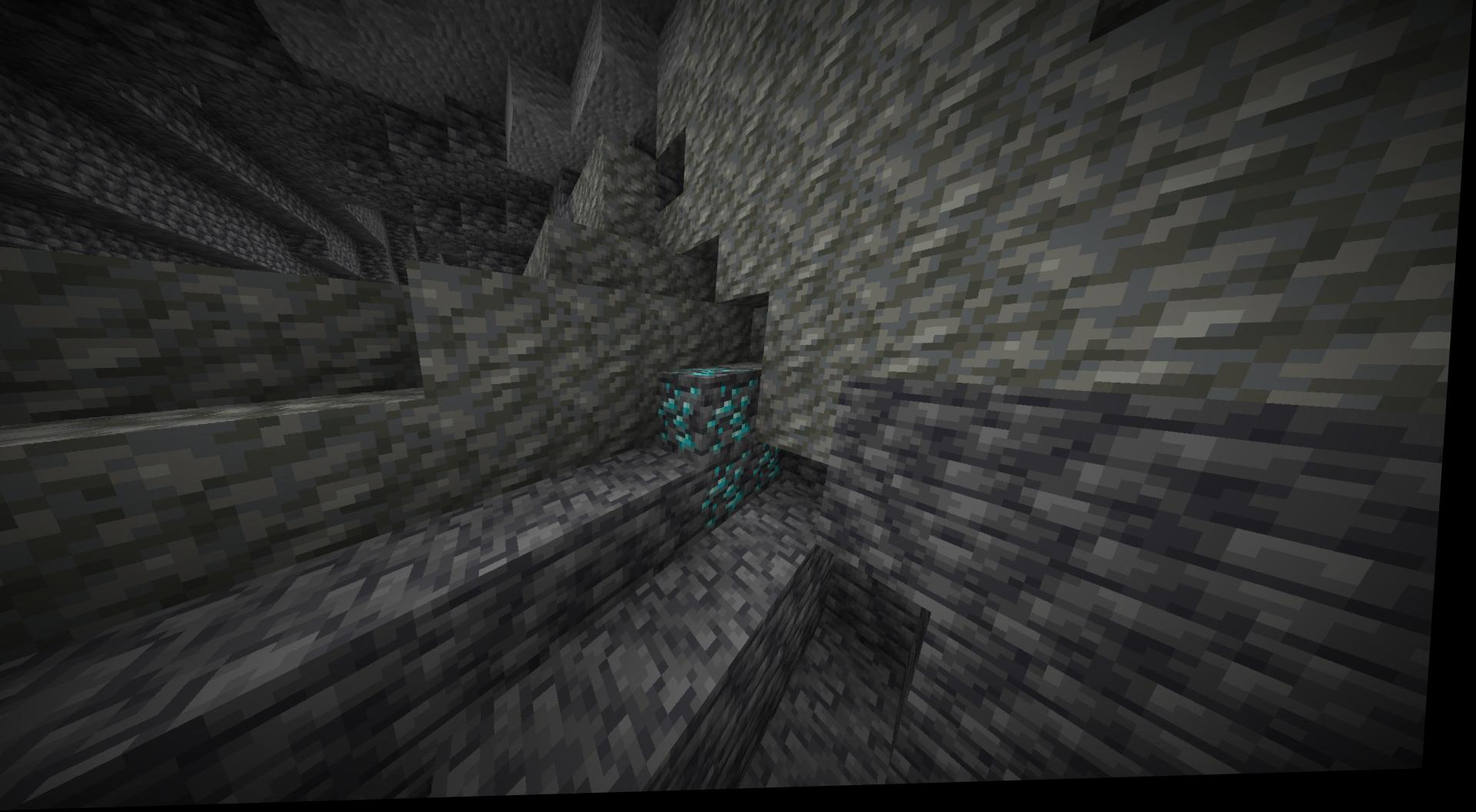diamond ore: (712, 384, 768, 451), (709, 457, 755, 536), (660, 383, 706, 458), (759, 442, 792, 504)
